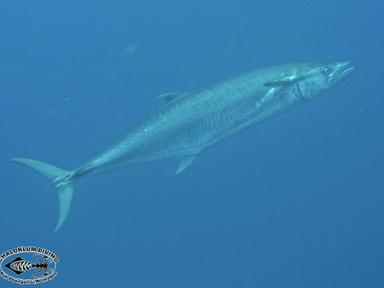Scombridae -Tunas-: (1, 57, 362, 237)
